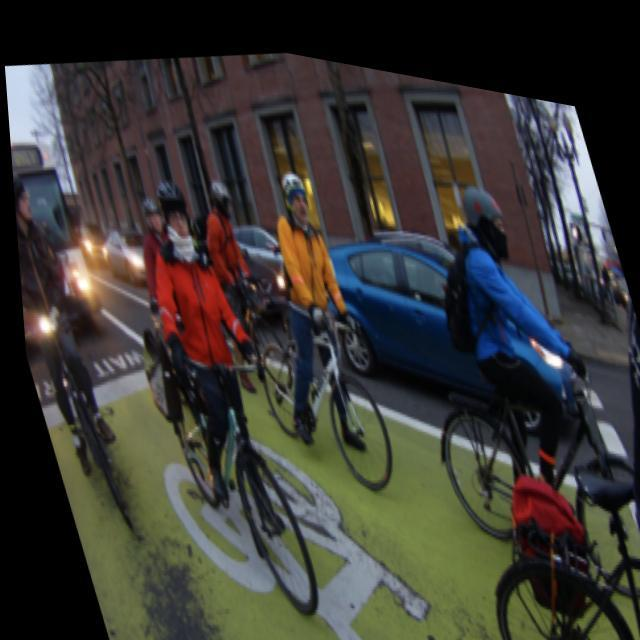Helmet: (454, 176, 514, 259), (152, 178, 198, 257), (275, 160, 319, 226)
